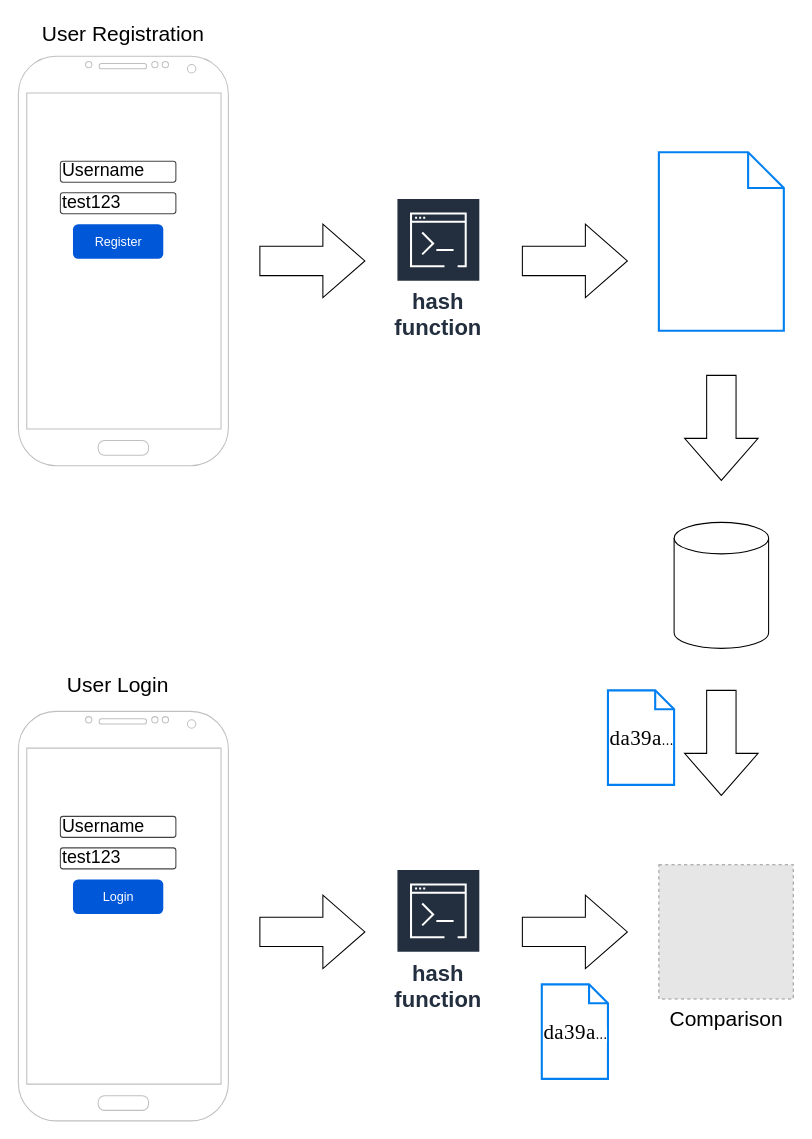
Some shapes in this 812 by 1139 pixel diagram are drawn without their labels. Grey dashed boxes stand in for pictures. The centre of each missing label's shape, as x and y in pixels:
"da39a3ee5 ..." goes at pixel 720 241.
"MongoDB" goes at pixel 721 584.
